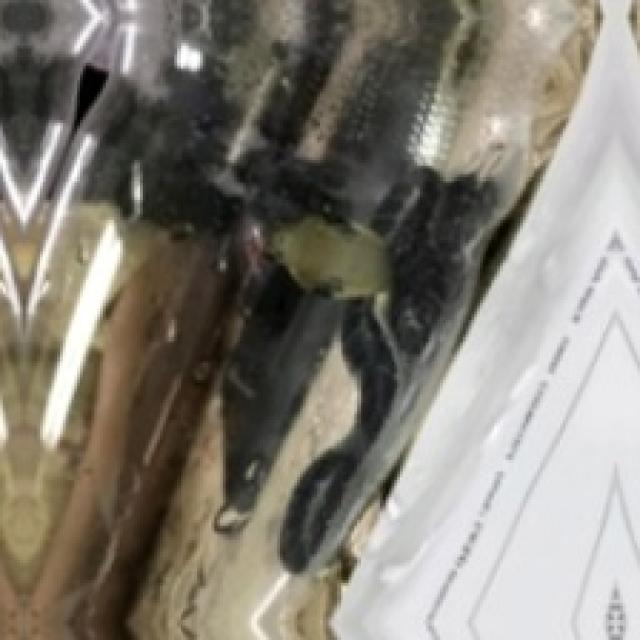king cobra: (0, 0, 594, 637)
